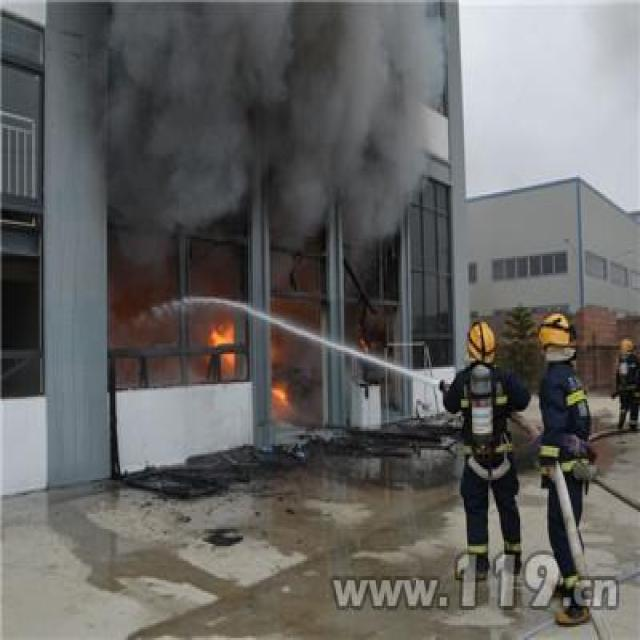fire: (206, 318, 237, 373), (269, 378, 288, 403)
smoke: (98, 4, 430, 226)
